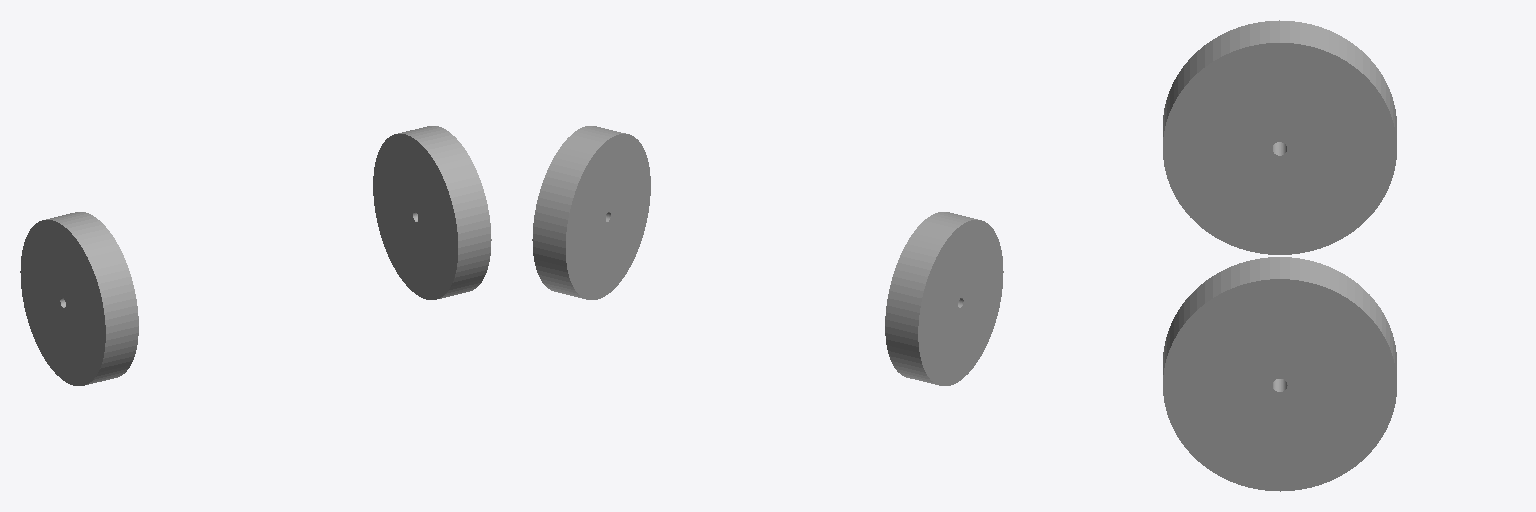
URDF robot description (twip):
<robot name="twip">
    <link name="body">
        <visual>
            <origin xyz="0 0 0" rpy="0 -0 0" />
            <geometry>
                <mesh filename="meshes/body_visual.stl" />
            </geometry>
            <material name="body_material">
                <color rgba="0.591122 0.530691 0.356737 1.0" />
            </material>
        </visual>
        <collision>
            <origin xyz="0 0 0" rpy="0 -0 0" />
            <geometry>
                <mesh filename="meshes/body_collision.stl" />
            </geometry>
            <material name="body_material">
                <color rgba="0.5 0.5 0.5 1.0" />
            </material>
        </collision>
        <inertial>
            <origin xyz="-9.64262e-05 1.22202e-06 0.143667" rpy="0 0 0" />
            <mass value="1.1781" />
            <inertia ixx="0.0243492" ixy="-4.37564e-09" ixz="2.17467e-06" iyy="0.0239017" iyz="-4.5225e-08" izz="0.00801393" />
        </inertial>
    </link>

    <link name="left_wheel">
        <visual>
            <origin xyz="0 0 0" rpy="0 -0 0" />
            <geometry>
                <mesh filename="meshes/left_wheel_visual.stl" />
            </geometry>
            <material name="left_wheel_material">
                <color rgba="0.701961 0.701961 0.701961 1.0" />
            </material>
        </visual>
        <collision>
            <origin xyz="0 0 0" rpy="0 -0 0" />
            <geometry>
                <mesh filename="meshes/left_wheel_collision.stl" />
            </geometry>
            <material name="left_wheel_material">
                <color rgba="0.5 0.5 0.5 1.0" />
            </material>
        </collision>
        <inertial>
            <origin xyz="0 0 -0.014" rpy="0 0 0" />
            <mass value="0.410645" />
            <inertia ixx="0.000429492" ixy="5.2939e-36" ixz="0" iyy="0.000805326" iyz="0" izz="0.000429492" />
        </inertial>
    </link>

    <link name="right_wheel">
        <visual>
            <origin xyz="0 0 0" rpy="0 -0 0" />
            <geometry>
                <mesh filename="meshes/right_wheel_visual.stl" />
            </geometry>
            <material name="right_wheel_material">
                <color rgba="0.701961 0.701961 0.701961 1.0" />
            </material>
        </visual>
        <collision>
            <origin xyz="0 0 0" rpy="0 -0 0" />
            <geometry>
                <mesh filename="meshes/right_wheel_collision.stl" />
            </geometry>
            <material name="right_wheel_material">
                <color rgba="0.5 0.5 0.5 1.0" />
            </material>
        </collision>
        <inertial>
            <origin xyz="0 0 -0.014" rpy="0 0 0" />
            <mass value="0.410645" />
            <inertia ixx="0.000429492" ixy="5.2939e-36" ixz="0" iyy="0.000805326" iyz="0" izz="0.000429492" />
        </inertial>
    </link>

    <link name="left_wheel_gear">
        <inertial>
            <origin xyz="0 0 -0.014" rpy="0 0 0" />
            <mass value="0.01" />
            <inertia ixx="0.000429492" ixy="5.2939e-36" ixz="0" iyy="0.000805326" iyz="0" izz="0.000429492" />
        </inertial>
    </link>

    <link name="right_wheel_gear">
        <inertial>
            <origin xyz="0 0 -0.014" rpy="0 0 0" />
            <mass value="0.01" />
            <inertia ixx="0.000429492" ixy="5.2939e-36" ixz="0" iyy="0.000805326" iyz="0" izz="0.000429492" />
        </inertial>
    </link>

    <joint name="lwheel" type="revolute">
        <origin xyz="-0.135148 -2.90755e-05 -0.03878" rpy="1.5708 -0 1.5708" />
        <parent link="body" />
        <child link="left_wheel_gear" />
        <axis xyz="0 0 1" />
        <limit effort="1" velocity="20" />
        <joint_properties friction="0.0" />
    </joint>
    
    <joint name="rwheel" type="revolute">
        <origin xyz="0.135148 2.90755e-05 -0.03878" rpy="-1.5708 -0 1.5708" />
        <parent link="body" />
        <child link="right_wheel_gear" />
        <axis xyz="0 0 1" />
        <limit effort="1" velocity="20" />
        <joint_properties friction="0.0" />
    </joint>

    <joint name="lwheel_gear" type="revolute">
        <origin xyz="0 0 0" rpy="0 0 0" />
        <parent link="left_wheel_gear" />
        <child link="left_wheel" />
        <axis xyz="0 0 1" />
        <limit effort="1" velocity="20" lower="-0.05" upper="0.05" />
        <joint_properties friction="0.0" />
    </joint>

    <joint name="rwheel_gear" type="revolute">
        <origin xyz="0 0 0" rpy="0 0 0" />
        <parent link="right_wheel_gear" />
        <child link="right_wheel" />
        <axis xyz="0 0 1" />
        <limit effort="1" velocity="20" lower="-0.05" upper="0.05"/>
        <joint_properties friction="0.0" />
    </joint>

</robot>

--- Facts derived from the render (not from the file) ---
The picture shows the robot from 3 angles, left to right: view 1: azimuth 30°, elevation 25°; view 2: azimuth 150°, elevation 25°; view 3: azimuth 270°, elevation 25°; orthographic projection.
Robot: twip — 5 links, 4 joints (4 revolute); root link body; default pose: every joint at zero.
Links seen in each view (by area): view 1: left_wheel, right_wheel; view 2: left_wheel, right_wheel; view 3: left_wheel, right_wheel.
Boxes of the visible links, <box> form: left_wheel: <box>20,212,138,385</box>; right_wheel: <box>373,126,491,299</box>; left_wheel: <box>885,212,1003,385</box>; right_wheel: <box>532,126,650,299</box>; left_wheel: <box>1163,20,1396,254</box>; right_wheel: <box>1163,257,1396,491</box>.
Bounding box of the posed robot: 0.3263 × 0.1251 × 0.125 m (x, y, z).
Meshes: 3 distinct files referenced, 2 mesh visuals loaded (2 binary STL); not drawn: 1 (reference not matched to a file when rendering).